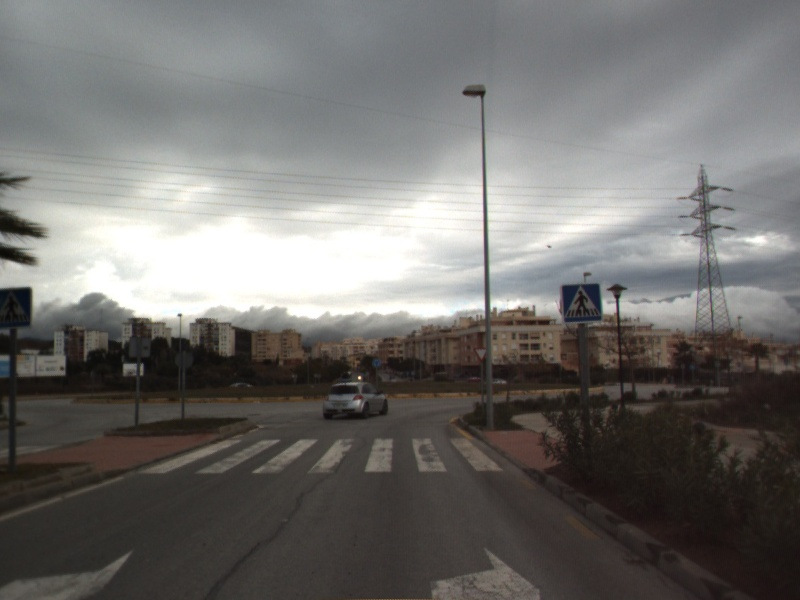RIGHT: (426, 544, 543, 600)
STRAIGHT: (1, 546, 138, 600)
